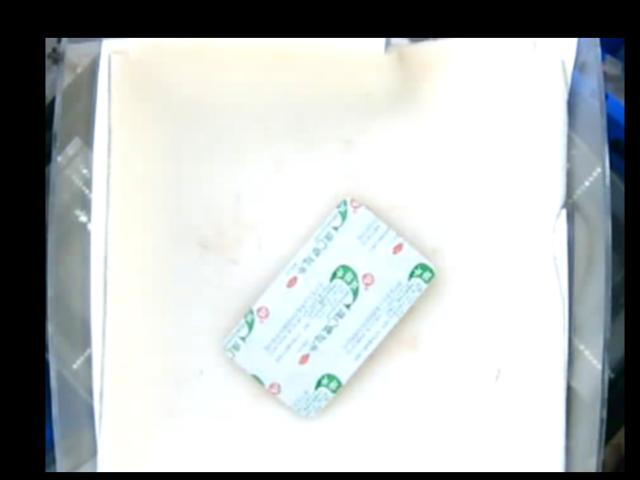Medicine: (222, 197, 433, 419)
